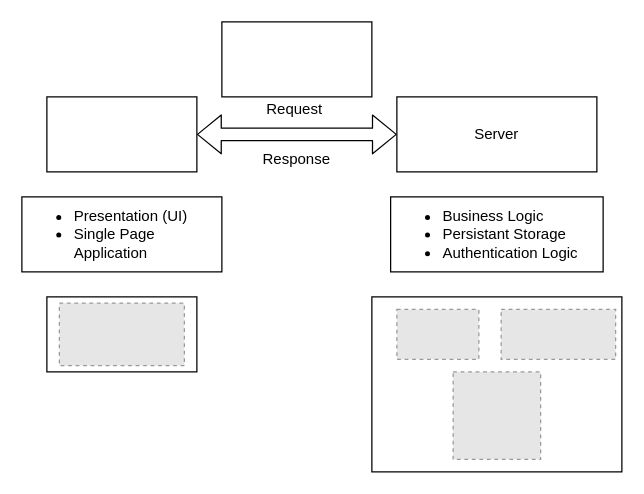
This 644x494 diagram has some shape labels left out. Grey dashed boxes stand in for pictures. Each missing label, with the centre of its shape:
"Client(Browser)" goes at point 121,134.
"Data JSON Format" goes at point 296,59.
